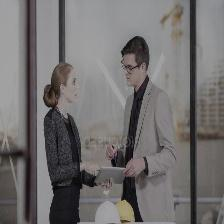Person: (115, 27, 174, 224), (41, 64, 95, 224)
no-helmet: (120, 31, 151, 58), (49, 55, 79, 75)
no-vest: (117, 86, 165, 197), (47, 109, 81, 198)
